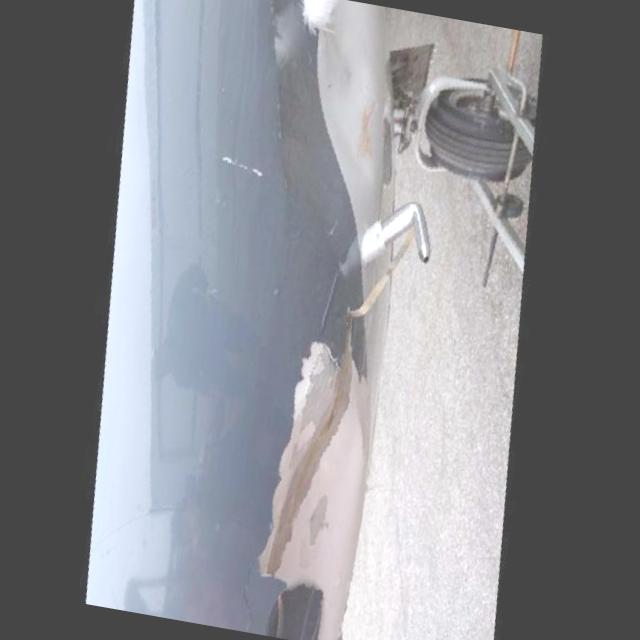crack: (231, 560, 266, 632)
dent: (302, 38, 399, 186), (307, 420, 371, 502)
